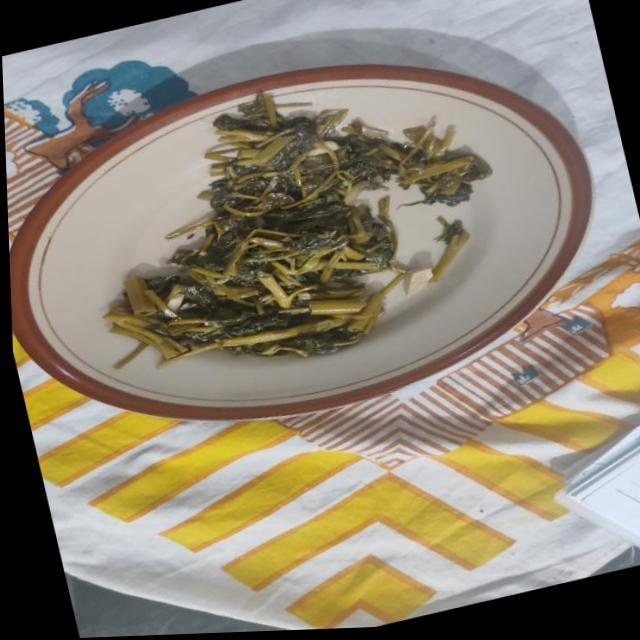tumis_kangkung: (103, 109, 476, 368)
